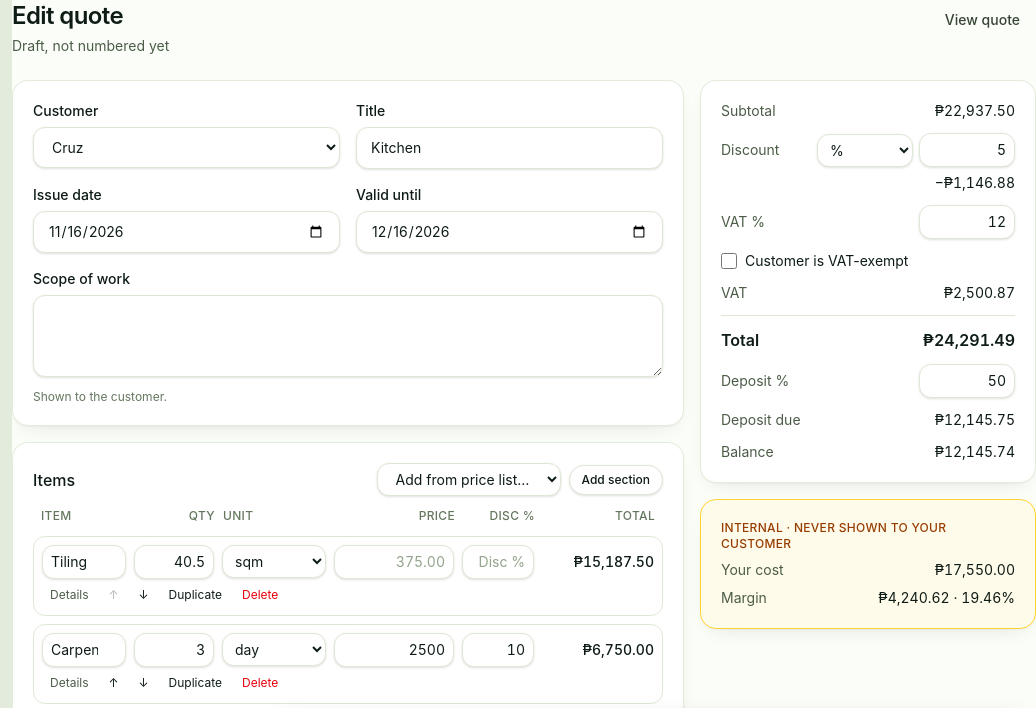
Test: quote builder › adds a line from the price list picker
Select "Floor tile" in the dropdown named "Add from price list" at (468, 480), box x1=376 y1=463 x2=560 y2=496
(page scrolled)
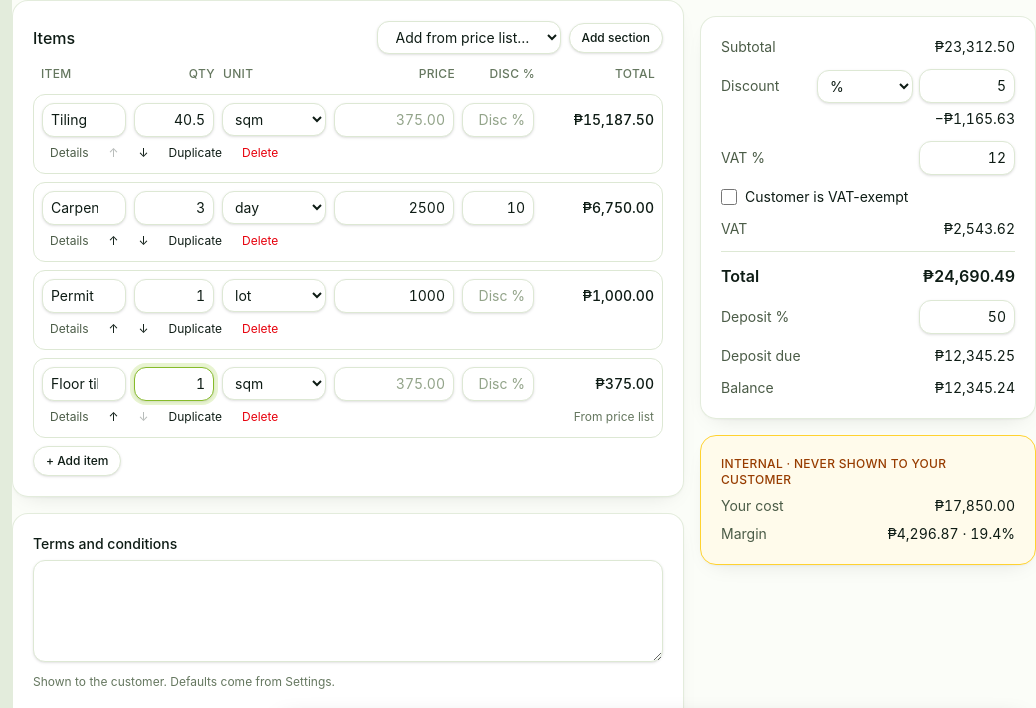
Check: the field named "Item name, line 4" holds "Floor tile", box x1=42 y1=367 x2=126 y2=401
